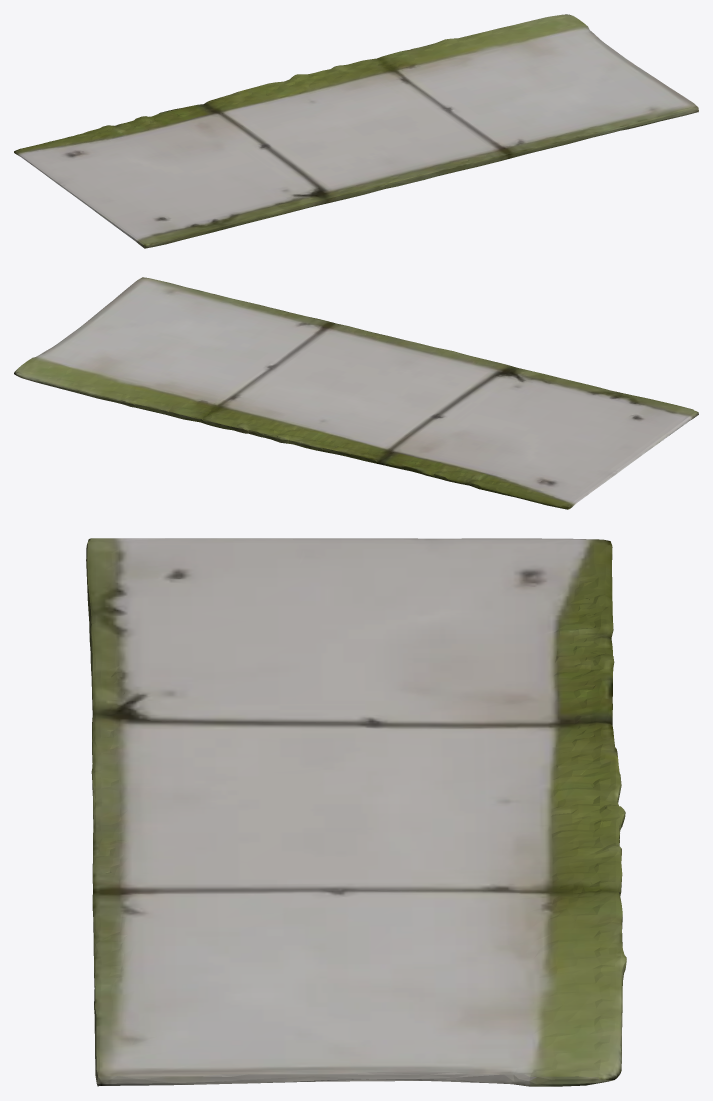
Rendered from sidewalk.glb.
3 renders of one model, top to bottom at view 1: azimuth 30°, elevation 25°; view 2: azimuth 150°, elevation 25°; view 3: azimuth 270°, elevation 25°, orthographic. The views are drawn at different scales.
Parts seen in each view (by area): view 1: world; view 2: world; view 3: world.
Boxes of the visible parts, x1=… form: world: x1=14, y1=14, x2=698, y2=248; world: x1=14, y1=277, x2=698, y2=509; world: x1=86, y1=538, x2=626, y2=1086.
Size of the model in its own units: 1 by 0.0131 by 0.4215.
1 material, 1 textured.
